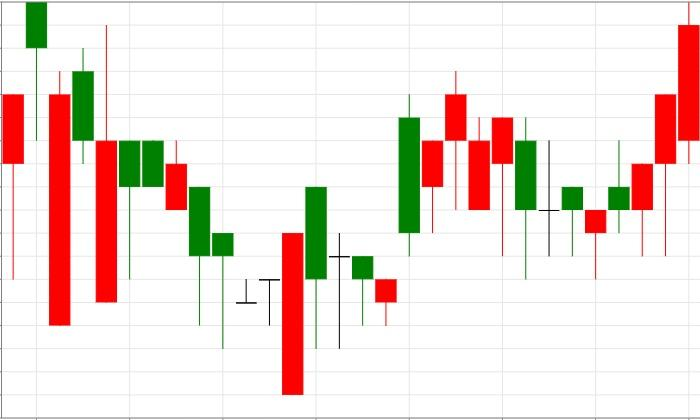hammer_rise: (72, 24, 234, 349), (445, 69, 606, 279)
